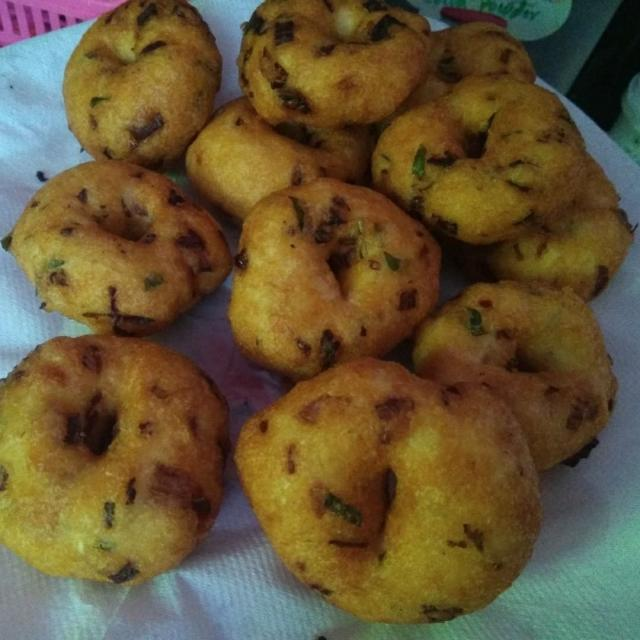Wet Waste: (248, 363, 532, 615), (0, 356, 217, 571), (22, 169, 228, 347), (242, 192, 454, 351), (440, 291, 615, 452), (392, 88, 572, 226), (248, 3, 427, 134), (66, 0, 203, 158), (196, 110, 379, 219), (512, 163, 628, 294)
